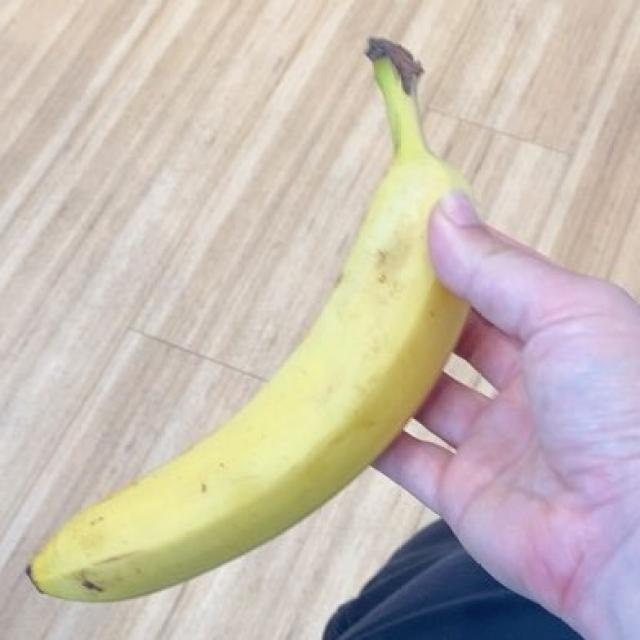banana: (45, 52, 456, 598)
